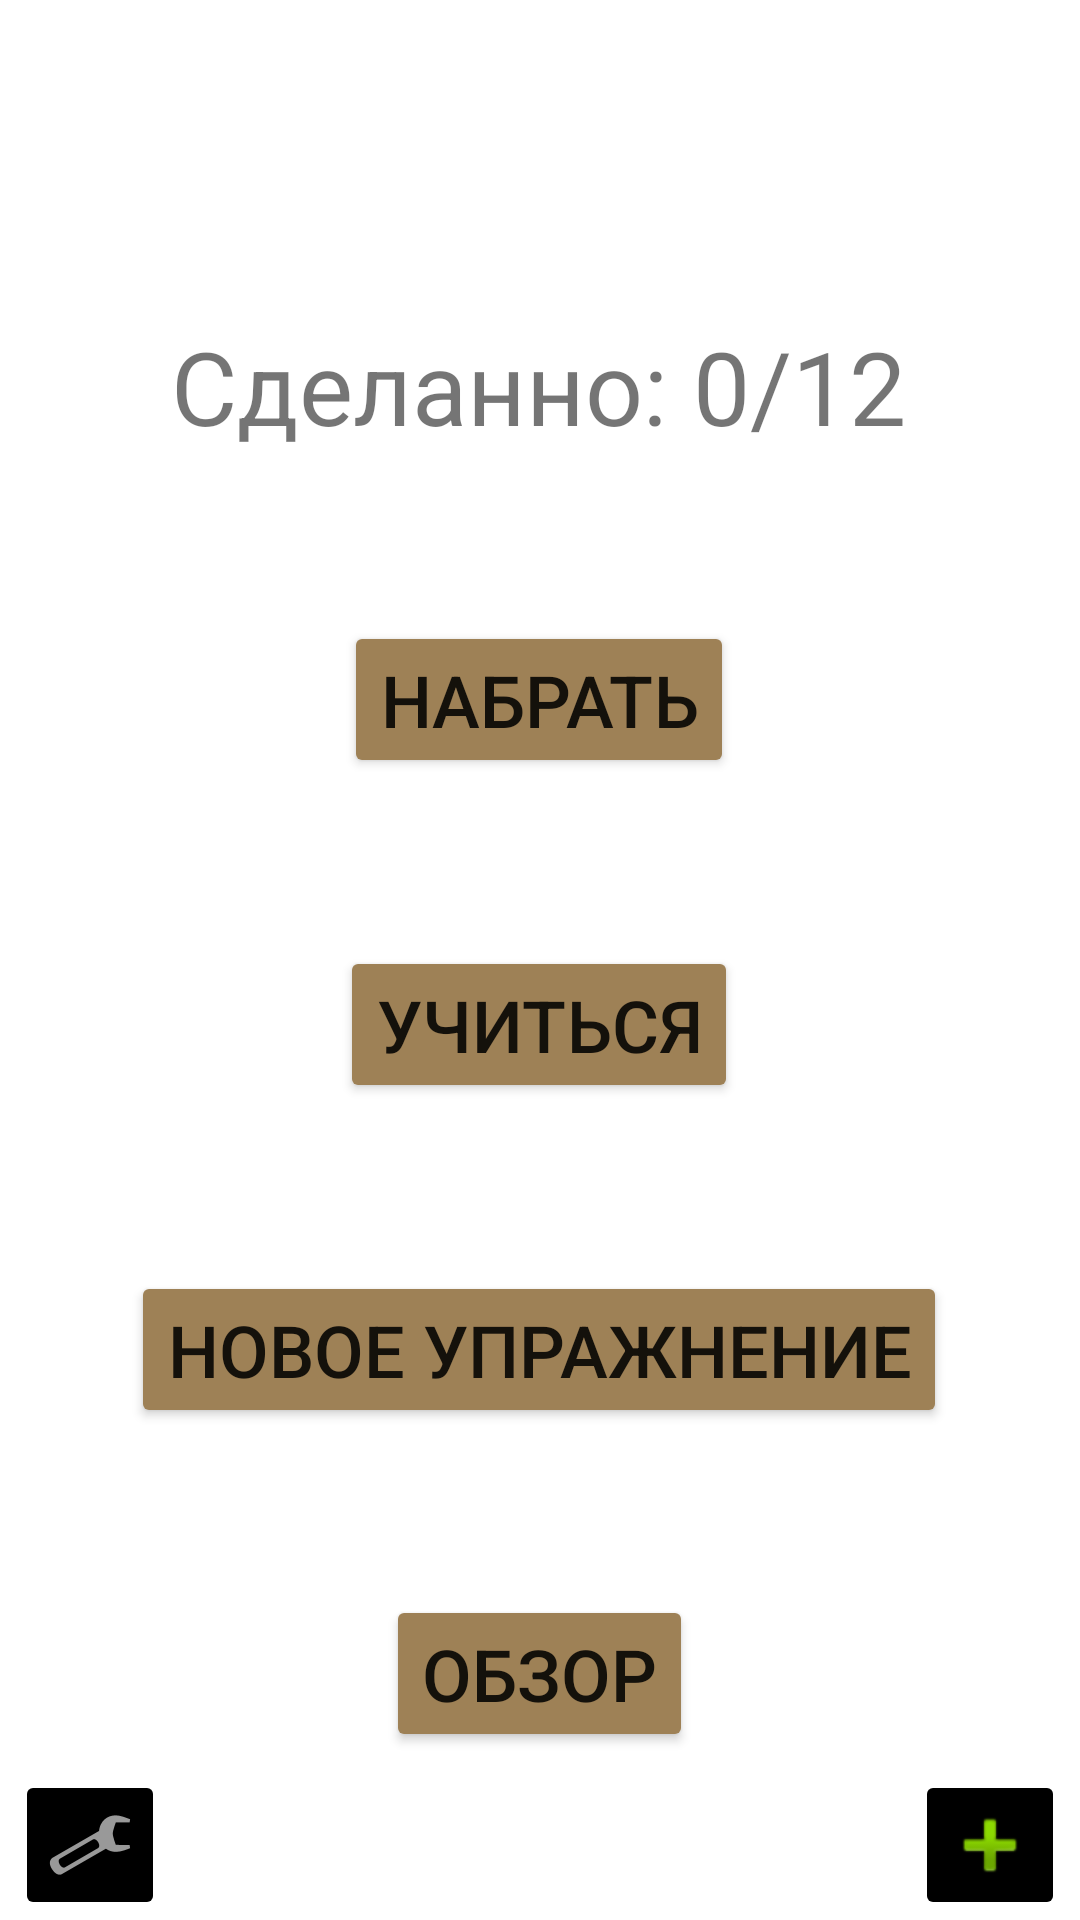

Screen size 1080w x 1920h. Icon name, then its box in pixels as region(x1, y1, x2, y2):
Добавить свой материал: region(927, 1788, 1053, 1902)
Настройки: region(27, 1788, 153, 1902)
